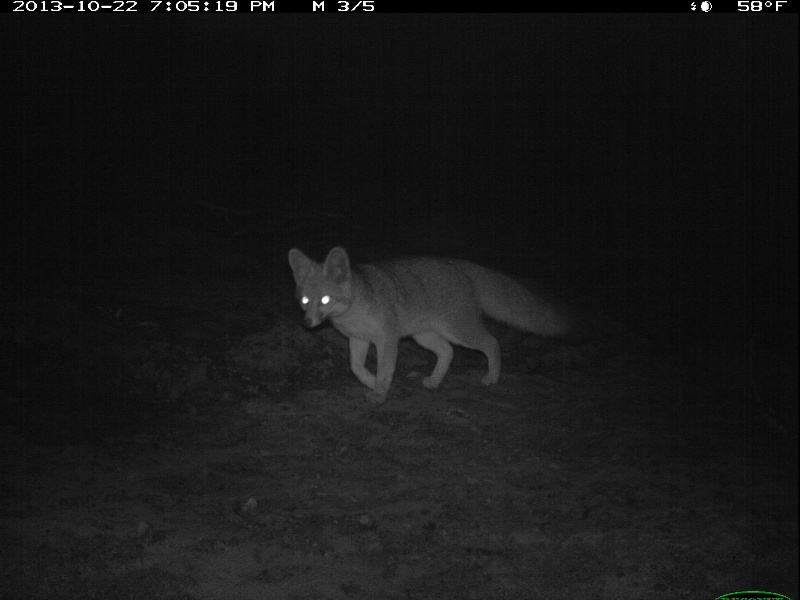fox: (286, 244, 581, 408)
